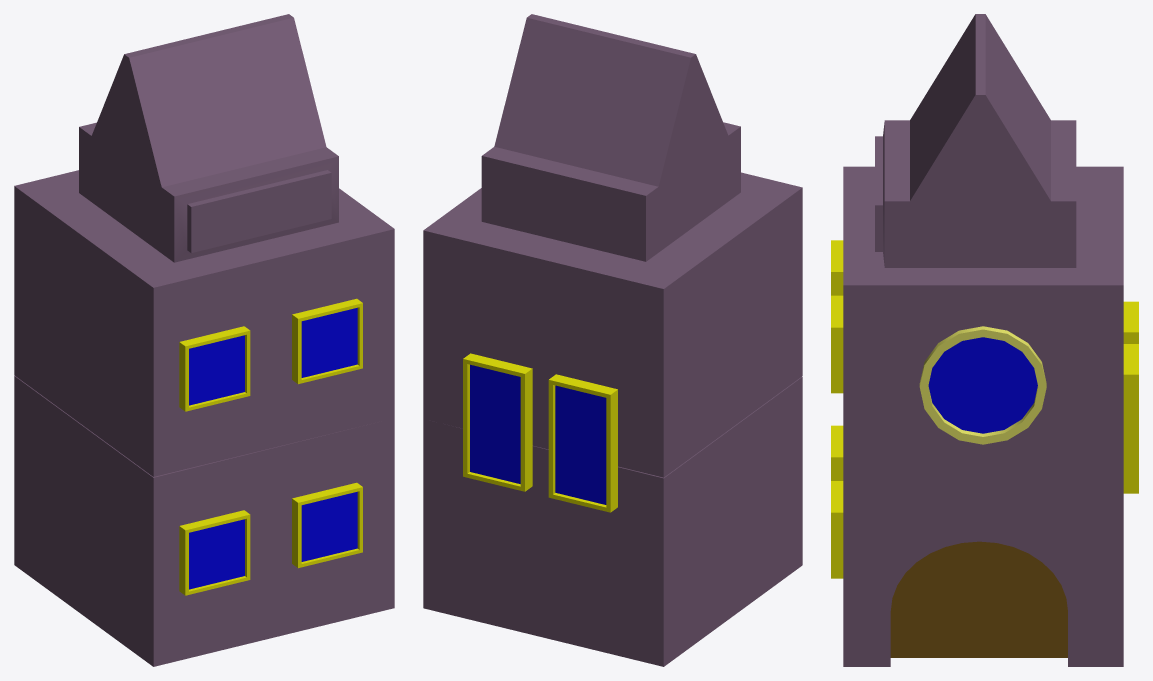
3 views of the same model, side by side, from view 1: azimuth 30°, elevation 25°; view 2: azimuth 150°, elevation 25°; view 3: azimuth 270°, elevation 25° (orthographic).
Visible parts, largest first — view 1: pCube52, polySurface59, polySurface60, polySurface61, polySurface63, polySurface64, polySurface62; view 2: pCube52, polySurface59, polySurface60, polySurface66, polySurface65; view 3: pCube52, polySurface59, polySurface60, pTorus3, polySurface66, polySurface64, polySurface62, polySurface63, polySurface61, polySurface65.
Boxes of the visible parts, <box> form: pCube52: <box>14,170,394,476</box>; polySurface59: <box>14,375,394,666</box>; polySurface60: <box>79,14,338,262</box>; polySurface61: <box>179,510,250,595</box>; polySurface63: <box>179,326,250,411</box>; polySurface64: <box>292,298,362,384</box>; polySurface62: <box>292,482,362,568</box>; pCube52: <box>423,172,802,477</box>; polySurface59: <box>423,376,802,666</box>; polySurface60: <box>481,14,740,261</box>; polySurface66: <box>463,353,532,491</box>; polySurface65: <box>548,374,617,512</box>; pCube52: <box>843,166,1123,475</box>; polySurface59: <box>843,475,1123,666</box>; polySurface60: <box>875,14,1076,267</box>; pTorus3: <box>919,326,1046,444</box>; polySurface66: <box>1123,344,1138,493</box>; polySurface64: <box>831,295,843,393</box>; polySurface62: <box>831,481,843,578</box>; polySurface63: <box>831,240,843,295</box>; polySurface61: <box>831,425,843,480</box>; polySurface65: <box>1123,301,1138,343</box>.
Size of the model in its own units: 2258 by 4776 by 2402.
